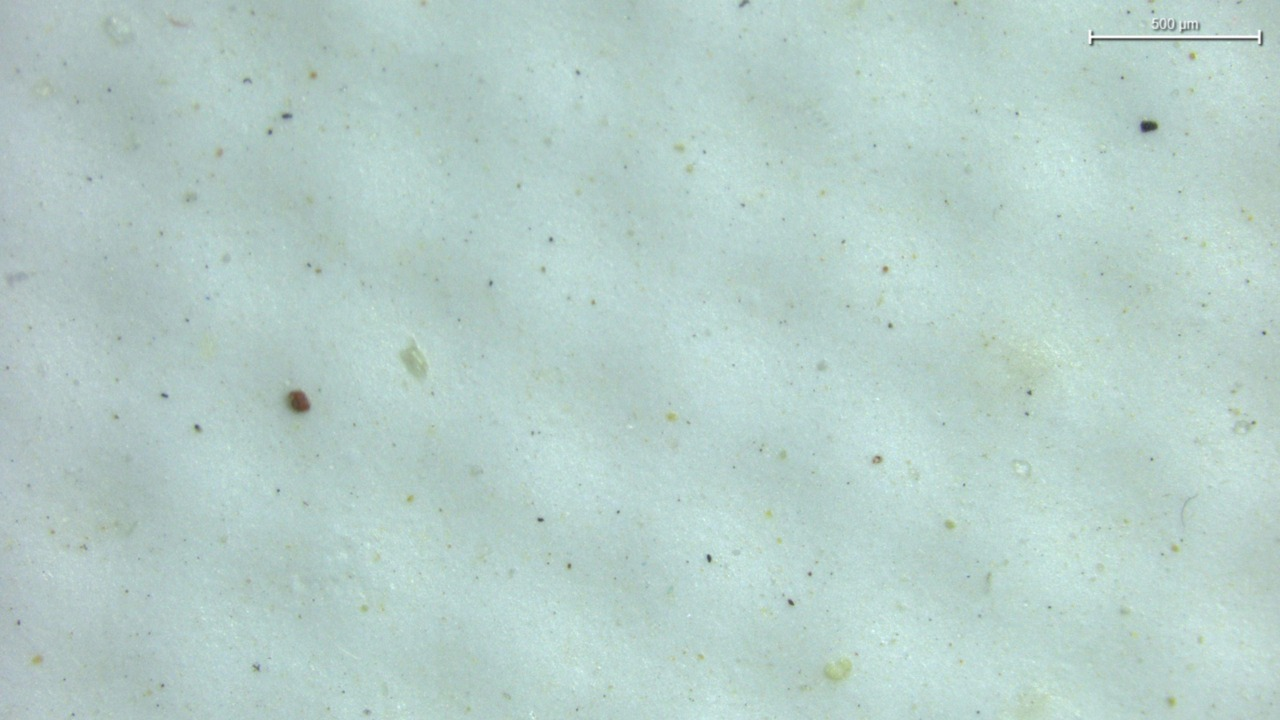microplastic_fragment: (399, 337, 429, 379)
